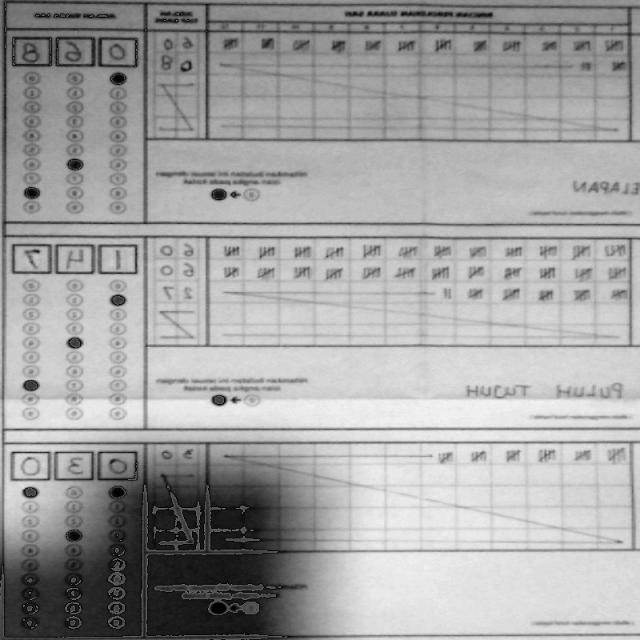Suara: (9, 238, 143, 277), (8, 32, 142, 70), (9, 444, 143, 482)
